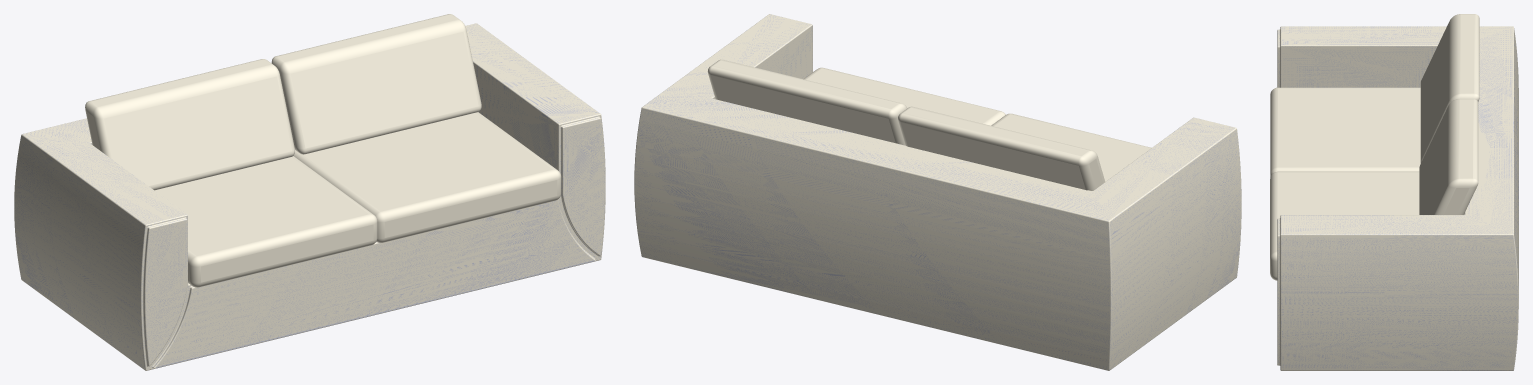
Rendered from sofa_full.dae.
The picture shows the model from 3 angles, left to right: view 1: azimuth 30°, elevation 25°; view 2: azimuth 150°, elevation 25°; view 3: azimuth 270°, elevation 25°; orthographic projection. The views are drawn at different scales.
Visible parts, largest first — view 1: group_0_001, group_0, group_3, group_7, group_6, group_4, group_0_002, group_0_003, group_0_007; view 2: group_0_001, group_6, group_7, group_3, group_4; view 3: group_0_001, group_4, group_3, group_7, group_6, group_0_003, group_0_002.
Boxes of the visible parts, box(x1,y1,x2,y2) form: group_0_001: box(14, 23, 605, 370); group_0: box(151, 199, 595, 368); group_3: box(293, 112, 561, 242); group_7: box(271, 14, 481, 154); group_6: box(85, 59, 294, 190); group_4: box(155, 156, 377, 287); group_0_002: box(142, 217, 187, 366); group_0_003: box(560, 116, 604, 256); group_0_007: box(156, 260, 594, 367); group_0_001: box(634, 14, 1241, 370); group_6: box(898, 106, 1105, 190); group_7: box(707, 59, 907, 145); group_3: box(803, 67, 1005, 125); group_4: box(991, 113, 1151, 181); group_0_001: box(1280, 26, 1518, 370); group_4: box(1270, 87, 1420, 176); group_3: box(1270, 171, 1464, 280); group_7: box(1419, 99, 1478, 214); group_6: box(1420, 14, 1479, 163); group_0_003: box(1277, 218, 1280, 365); group_0_002: box(1277, 29, 1280, 87).
Bounding box in the file's own units: 2 × 0.9893 × 0.7788.
